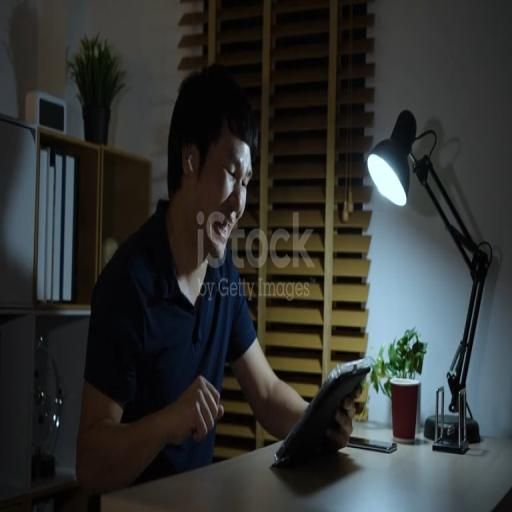earphone: (183, 142, 198, 178)
